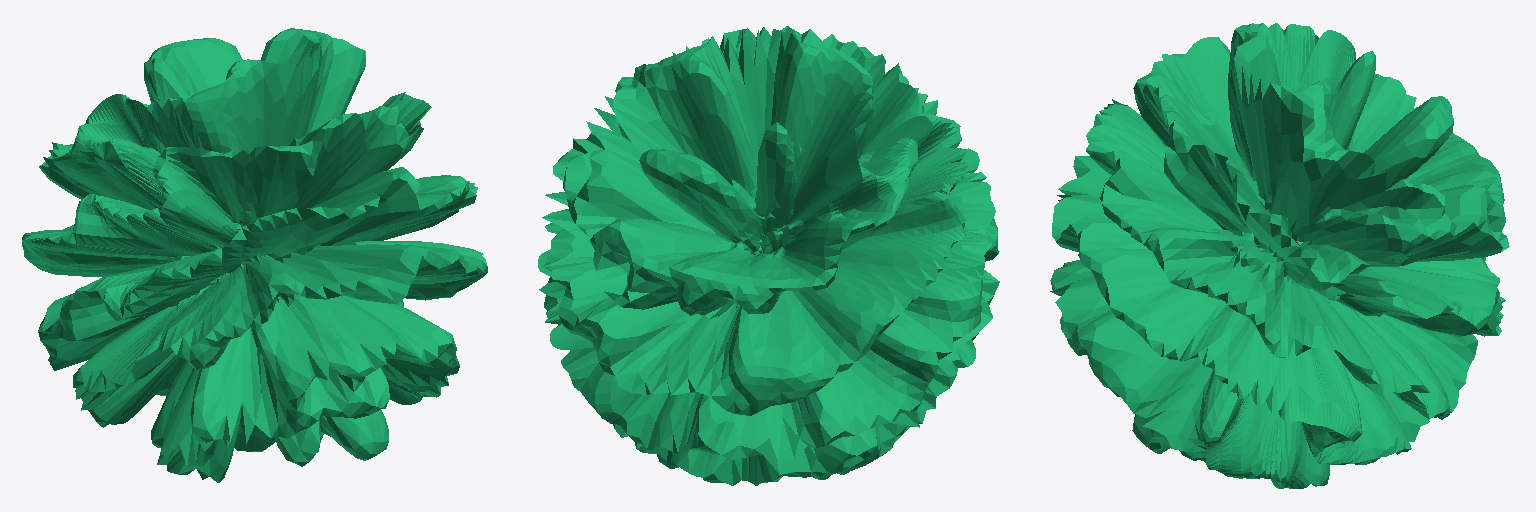
File: outside_ball_piek.obj
3 views of the same model, side by side, from view 1: azimuth 30°, elevation 25°; view 2: azimuth 150°, elevation 25°; view 3: azimuth 270°, elevation 25° (orthographic).
Visible parts, largest first — view 1: Outside_ball_pieks; view 2: Outside_ball_pieks; view 3: Outside_ball_pieks.
Part boxes in pixels (left/top/right/bottom): Outside_ball_pieks: left=22, top=28, right=487, bottom=482; Outside_ball_pieks: left=538, top=26, right=999, bottom=485; Outside_ball_pieks: left=1050, top=23, right=1509, bottom=488.
Bounding box in the file's own units: 0.2092 × 0.2074 × 0.2057.